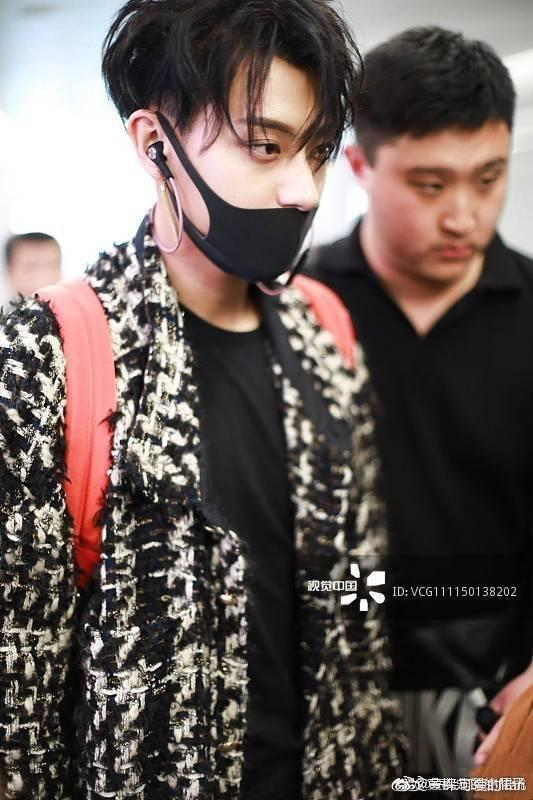NONE: (379, 143, 511, 285)
WRONG: (173, 80, 328, 283)
